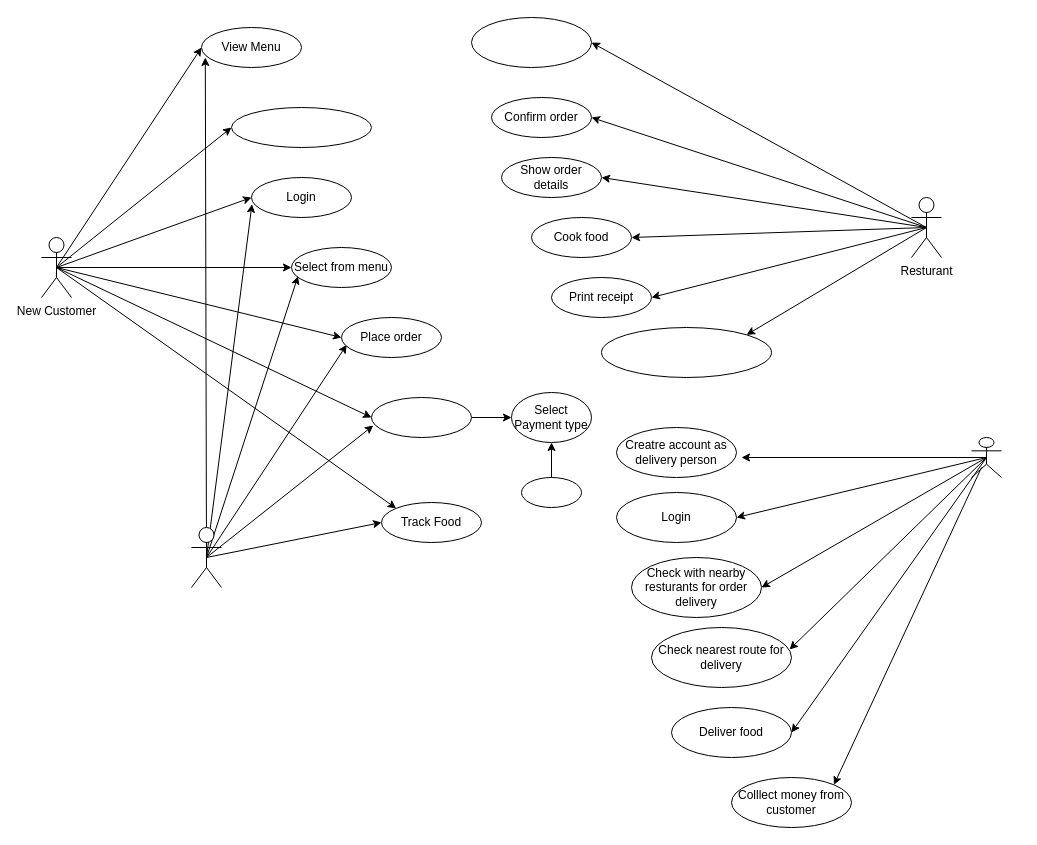
Image size: 1037x845. Some labels were removed from this diagram. Each missing label, with the centre of its shape:
Cash: [551,492]
Completed Order: [421,417]
Create account as customer: [301,127]
Delivery guy: [986,457]
Provide estimated time for delivery: [686,352]
Register with FreshFood: [531,42]
Registered Customer: [206,557]
